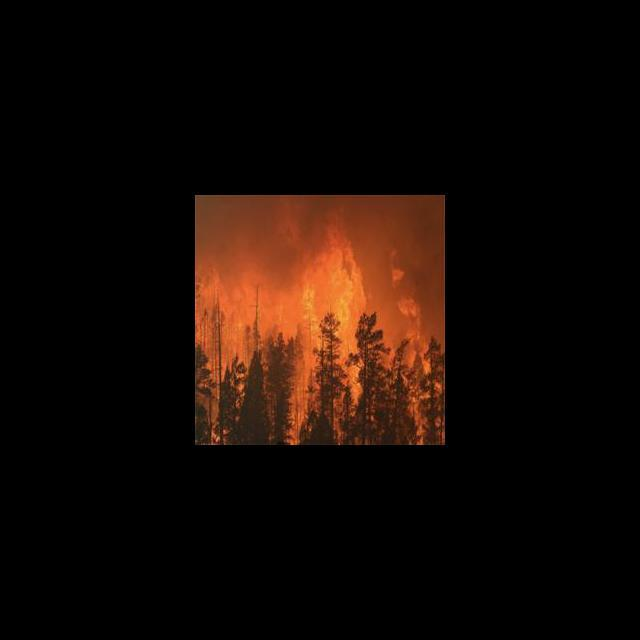Fire: (196, 220, 445, 444)
